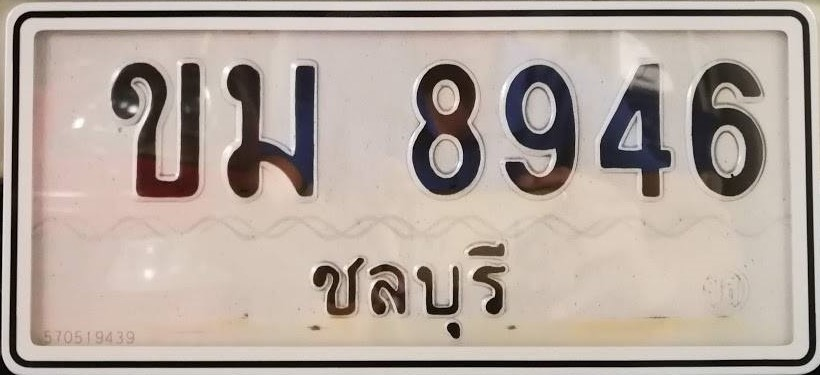txt02: (106, 57, 210, 201)
txt28: (217, 58, 323, 203)
